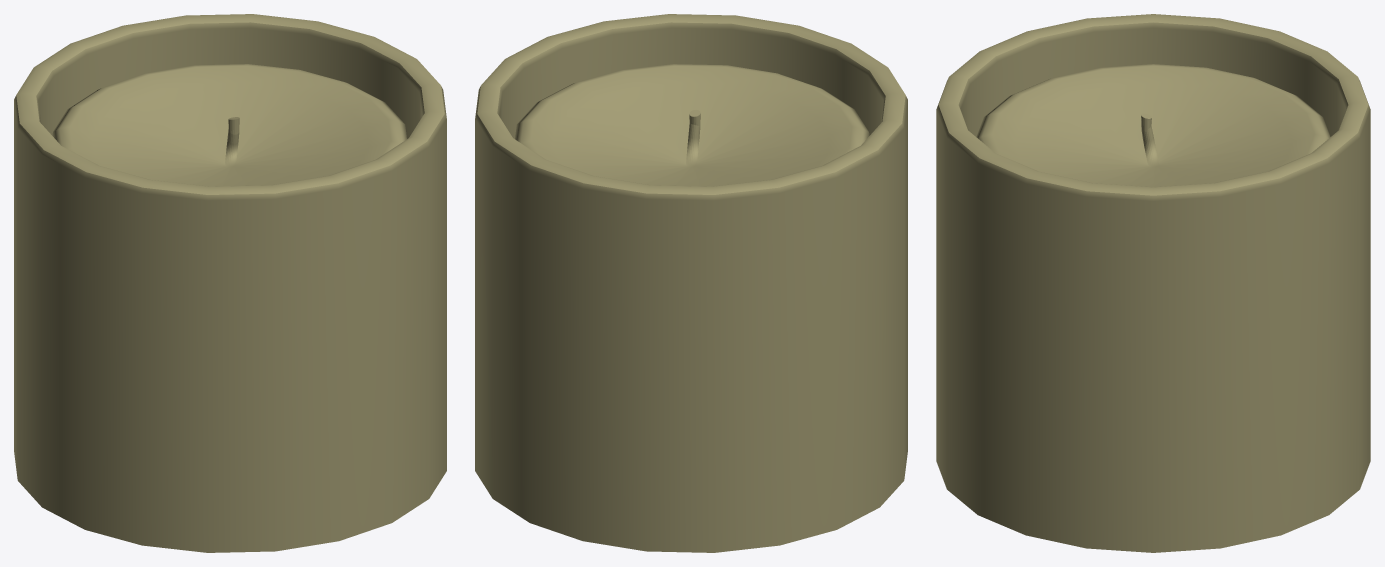
File: candle_3.fbx
3 renders of one model, left to right at view 1: azimuth 30°, elevation 25°; view 2: azimuth 150°, elevation 25°; view 3: azimuth 270°, elevation 25°, orthographic.
Parts seen in each view (by area): view 1: polySurface44; view 2: polySurface44; view 3: polySurface44.
Boxes of the visible parts, x1,y1,x2,y2 form: polySurface44: [14, 14, 446, 552]; polySurface44: [475, 14, 907, 552]; polySurface44: [936, 14, 1370, 552].
Size of the model in its own units: 0.4232 by 0.3852 by 0.4232.
